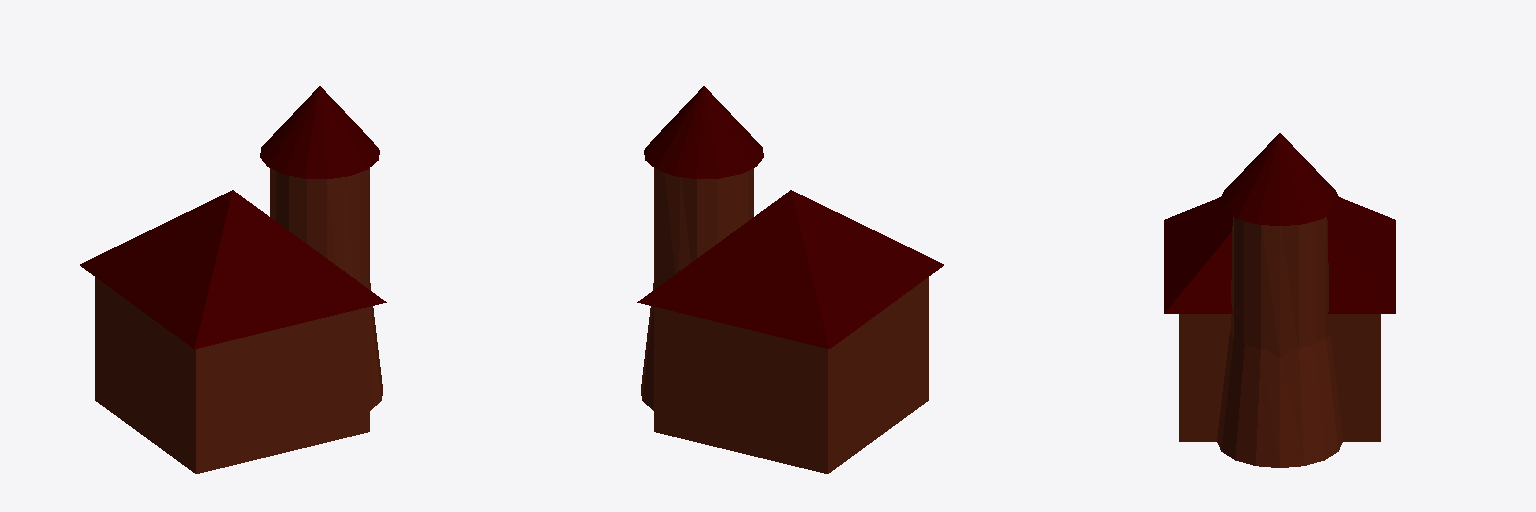
The model's file is smallchurch-3.obj.
3 renders of one model, left to right at view 1: azimuth 30°, elevation 25°; view 2: azimuth 150°, elevation 25°; view 3: azimuth 270°, elevation 25°, orthographic.
Parts seen in each view (by area): view 1: house_wall, house_roof, tower_roof, tower_tubus_3, tower_tubus_2, base_tower; view 2: house_wall, house_roof, tower_roof, tower_tubus_3, tower_tubus_2, base_tower; view 3: house_roof, base_tower, house_wall, tower_roof, tower_tubus_3, tower_tubus_2.
Part boxes in pixels (left/top/right/bottom): house_wall: left=95, top=277, right=369, bottom=473; house_roof: left=80, top=190, right=386, bottom=348; tower_roof: left=260, top=86, right=379, bottom=178; tower_tubus_3: left=270, top=168, right=369, bottom=287; tower_tubus_2: left=327, top=173, right=359, bottom=281; base_tower: left=368, top=283, right=382, bottom=410; house_wall: left=654, top=277, right=928, bottom=473; house_roof: left=637, top=190, right=943, bottom=348; tower_roof: left=644, top=86, right=763, bottom=178; tower_tubus_3: left=654, top=168, right=753, bottom=287; tower_tubus_2: left=664, top=173, right=696, bottom=281; base_tower: left=641, top=283, right=655, bottom=410; house_roof: left=1164, top=197, right=1395, bottom=313; base_tower: left=1217, top=330, right=1342, bottom=467; house_wall: left=1179, top=314, right=1380, bottom=441; tower_roof: left=1219, top=133, right=1340, bottom=225; tower_tubus_3: left=1234, top=217, right=1325, bottom=348; tower_tubus_2: left=1231, top=217, right=1329, bottom=357.
Bounding box in the file's own units: 8.75 × 10.83 × 7.34.